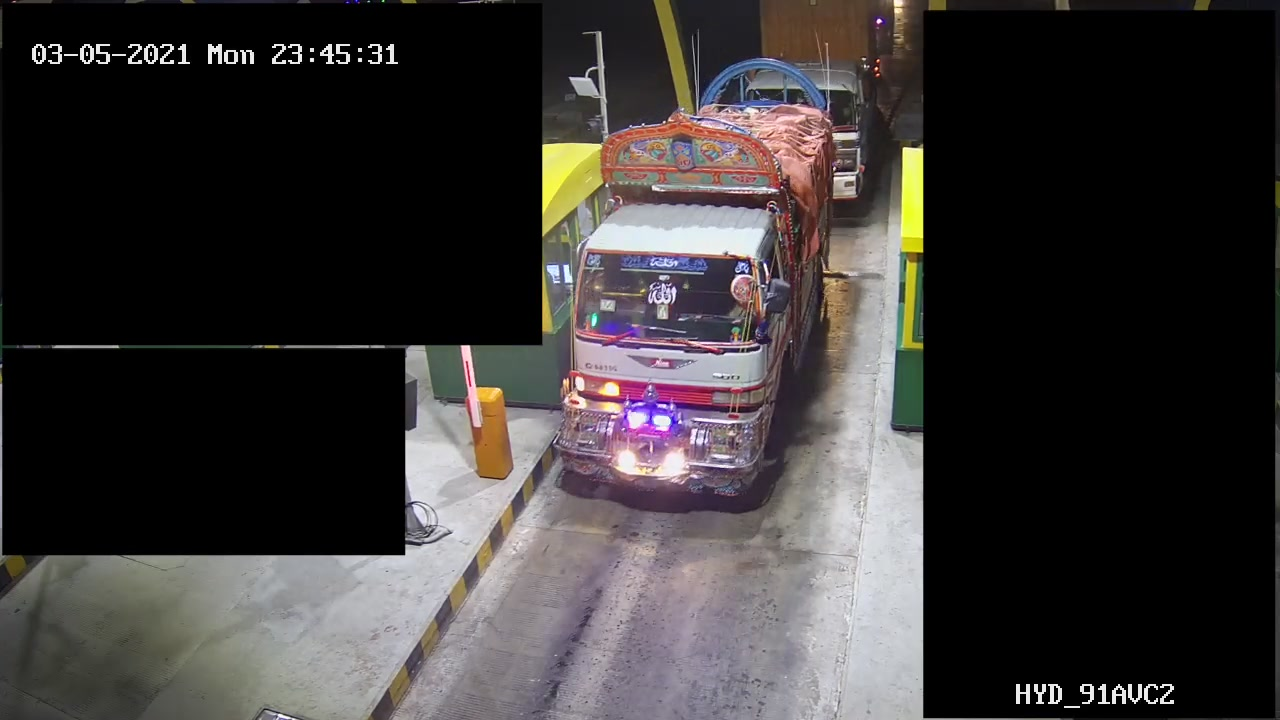F5: (553, 105, 857, 506)
